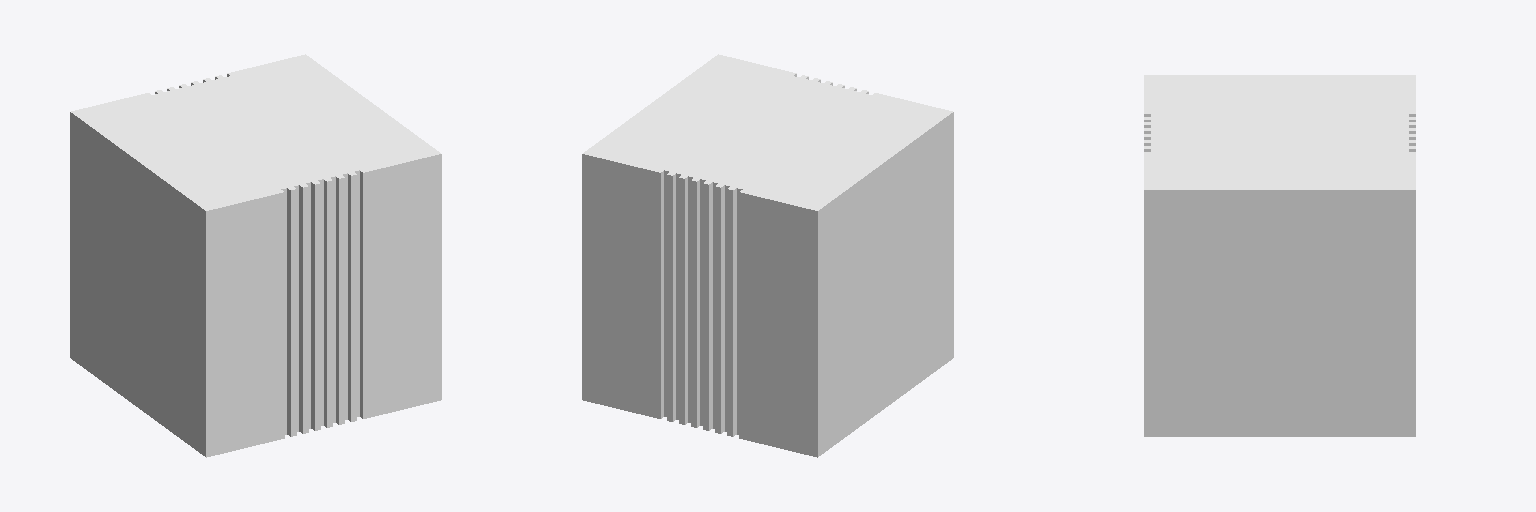
Rendered from GloryCubeYseg1.obj.
The picture shows the model from 3 angles: view 1: azimuth 30°, elevation 25°; view 2: azimuth 150°, elevation 25°; view 3: azimuth 270°, elevation 25°; orthographic projection.
Visible parts, largest first — view 1: object 1; view 2: object 1; view 3: object 1.
Part boxes in pixels (x1,y1,x2,y2): object 1: (70,54,441,457); object 1: (582,54,953,457); object 1: (1144,75,1415,436).
Size of the model in its own units: 3.9 by 3.9 by 3.9.